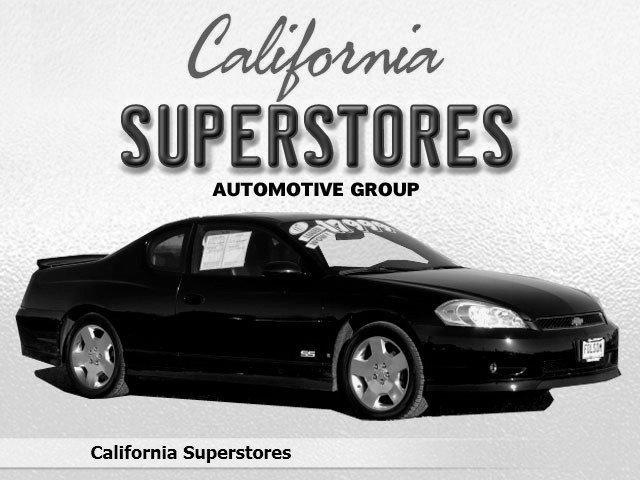car: (13, 211, 624, 427)
